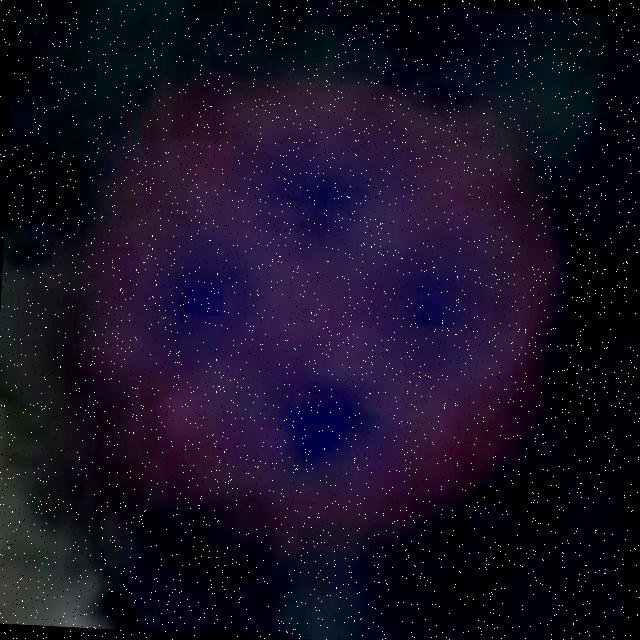Zakaz zatrzymywania sie: (71, 68, 572, 558)
